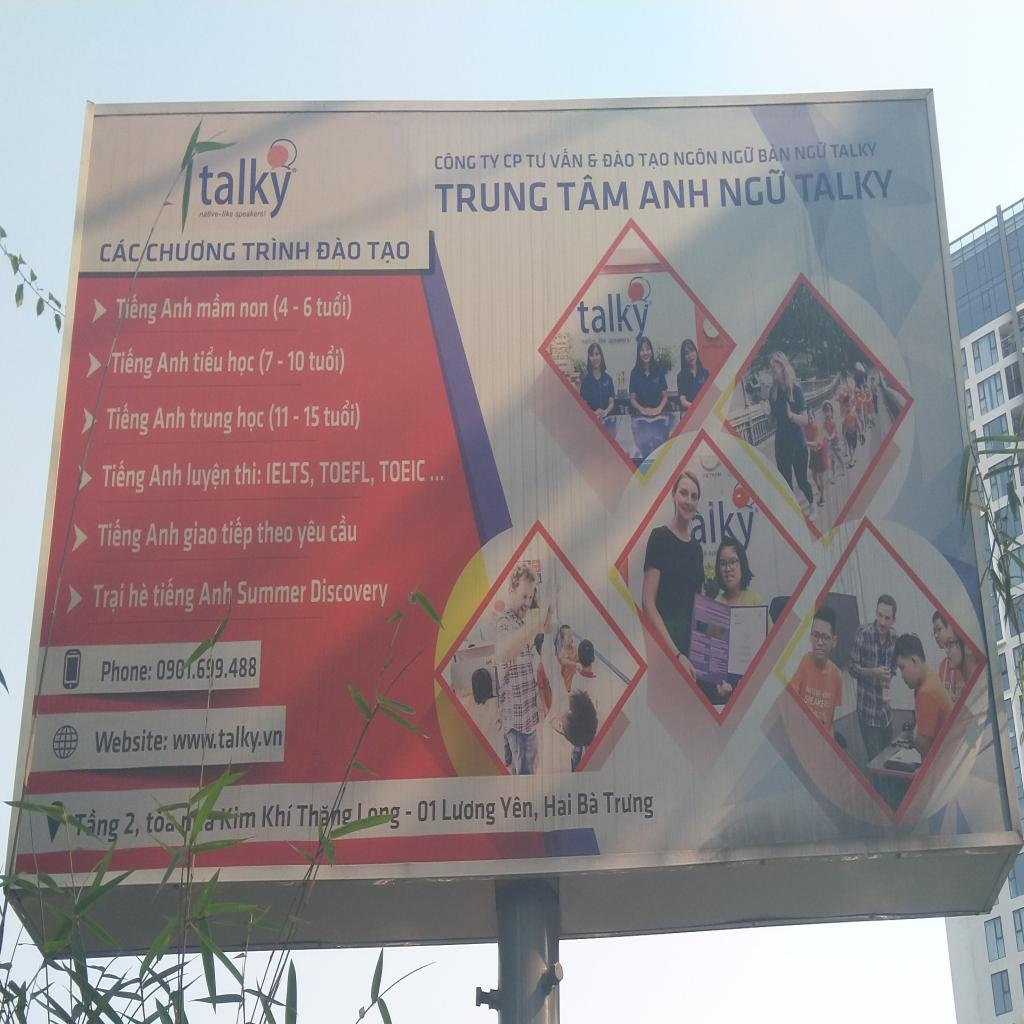text: (198, 157, 296, 225), (575, 294, 651, 345), (688, 498, 754, 556), (795, 168, 895, 205), (434, 181, 548, 212), (172, 726, 284, 754), (719, 167, 788, 208), (557, 174, 629, 212), (310, 576, 390, 608), (638, 178, 710, 210), (146, 238, 236, 262), (94, 729, 169, 755), (236, 579, 307, 605), (241, 236, 309, 262), (152, 576, 196, 615), (96, 519, 142, 556), (74, 807, 120, 844), (102, 458, 146, 496), (319, 461, 375, 489), (104, 404, 150, 438), (442, 798, 495, 826), (602, 791, 654, 819), (108, 348, 153, 380), (116, 292, 158, 326), (265, 461, 315, 489), (190, 405, 234, 436), (187, 462, 230, 492), (100, 660, 153, 684), (379, 458, 426, 484), (316, 291, 354, 322), (182, 521, 217, 554), (220, 517, 253, 552), (308, 344, 345, 375), (323, 400, 360, 431), (316, 236, 360, 262), (98, 239, 142, 263), (92, 582, 125, 614), (196, 292, 236, 318), (367, 241, 410, 265), (500, 796, 538, 822), (144, 521, 180, 548), (197, 580, 233, 607), (297, 804, 341, 826), (220, 805, 257, 831), (830, 140, 878, 160), (146, 462, 182, 488), (297, 519, 326, 551), (257, 520, 293, 545), (144, 808, 176, 836), (192, 346, 223, 374), (435, 151, 476, 172), (328, 515, 358, 543), (674, 147, 718, 166), (156, 350, 190, 374), (152, 406, 186, 430), (236, 406, 264, 435), (262, 803, 293, 829), (160, 296, 193, 320), (228, 349, 256, 377), (233, 460, 262, 486), (549, 148, 583, 170), (544, 792, 572, 818), (721, 145, 755, 166), (267, 403, 290, 432), (602, 150, 635, 170), (638, 151, 670, 171), (758, 143, 790, 163), (795, 140, 827, 160), (239, 300, 269, 320), (157, 659, 185, 680), (128, 581, 148, 609), (578, 790, 598, 816), (273, 292, 289, 324), (302, 405, 320, 430), (418, 799, 436, 824), (123, 812, 140, 838), (288, 350, 306, 374), (525, 151, 547, 170), (805, 686, 832, 700), (480, 153, 500, 170), (198, 209, 234, 218), (504, 153, 522, 171), (235, 210, 267, 220), (303, 296, 312, 319), (702, 470, 722, 480)
